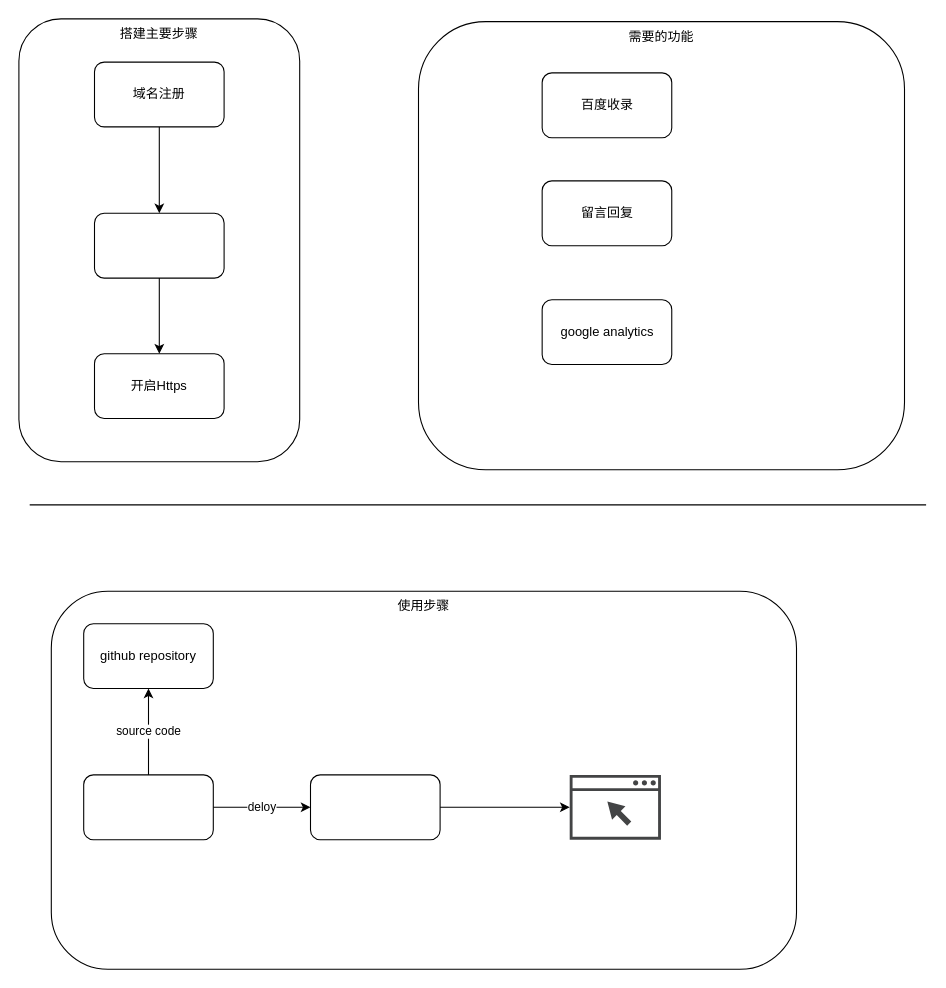
Image size: 946x988. Some labels were removed from this diagram. Here are the shapes that lost their labels. From the top down, the centre of each, then its label:
At [158,245]: "绑定到 github pages".
At [148,807]: "在Hexo中写作".
At [374,807]: "github pages".
At [614,806]: "用户浏览".
